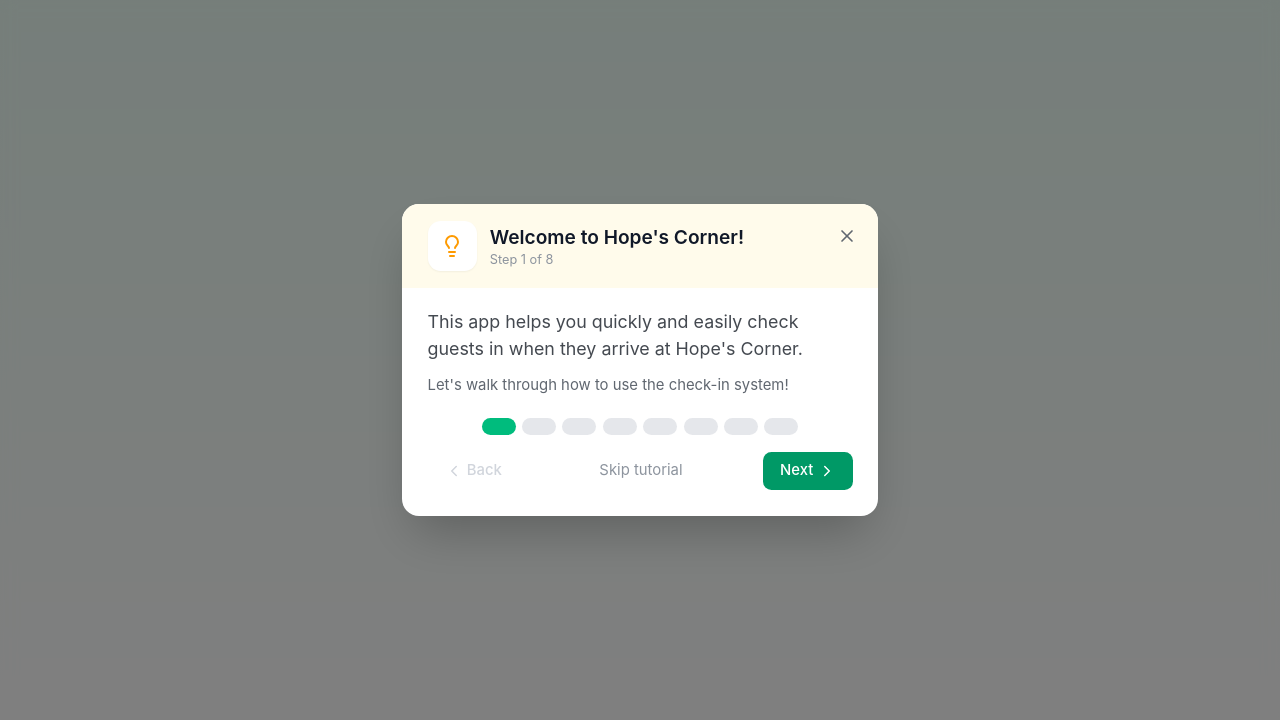
Test case: TutorialModal › should allow navigation via progress dots
// Click on step 3 dot (index 2) - Quick Add Meals
Step 1. Click the button named "Go to step" → (579, 426), box [562,418,596,435]
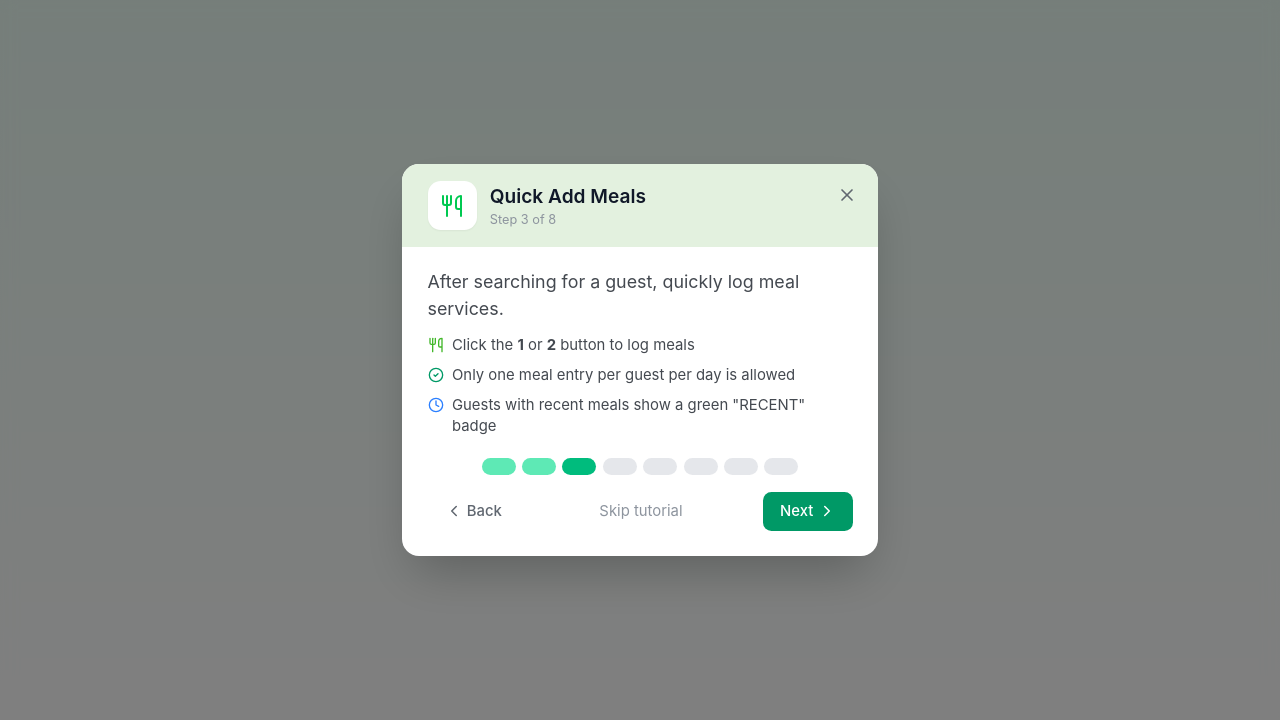
Expected: the heading "Quick Add Meals" is shown, [490,182,646,212]
